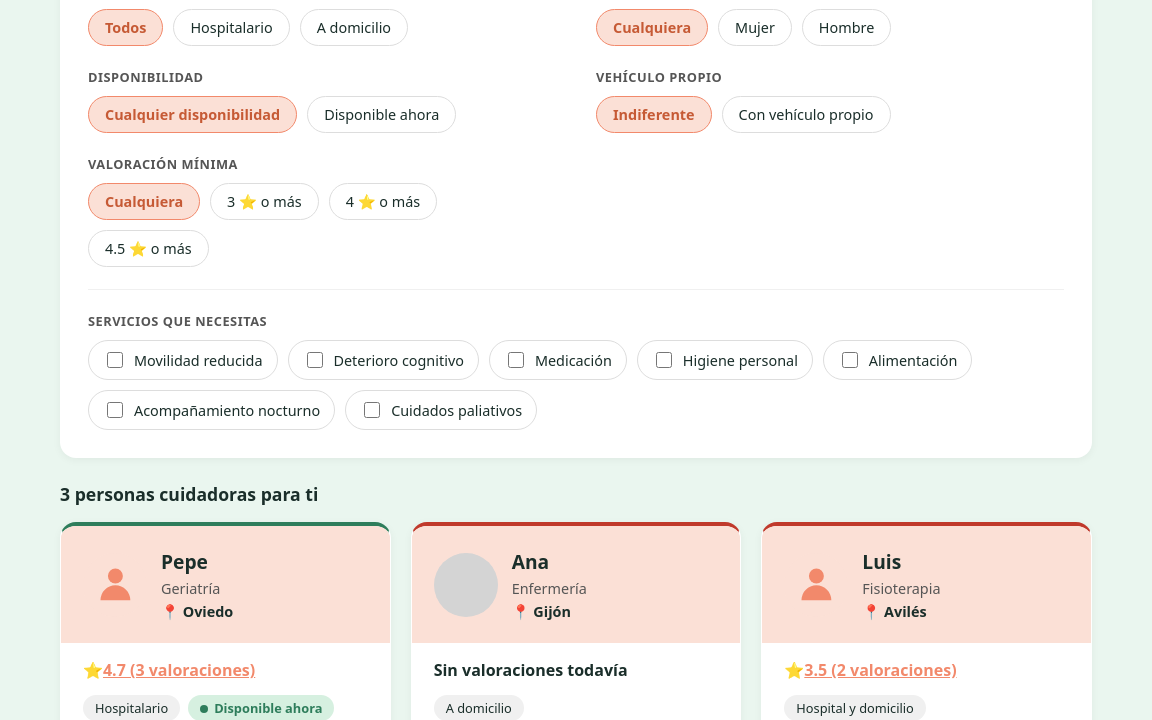
Scenario: BuscarView › el filtro de un servicio solo deja a los que lo ofrecen
(page scrolled)
Click the checkbox with id "filtro-servicio-medicacion" at (516, 360), box [508,352,524,368]
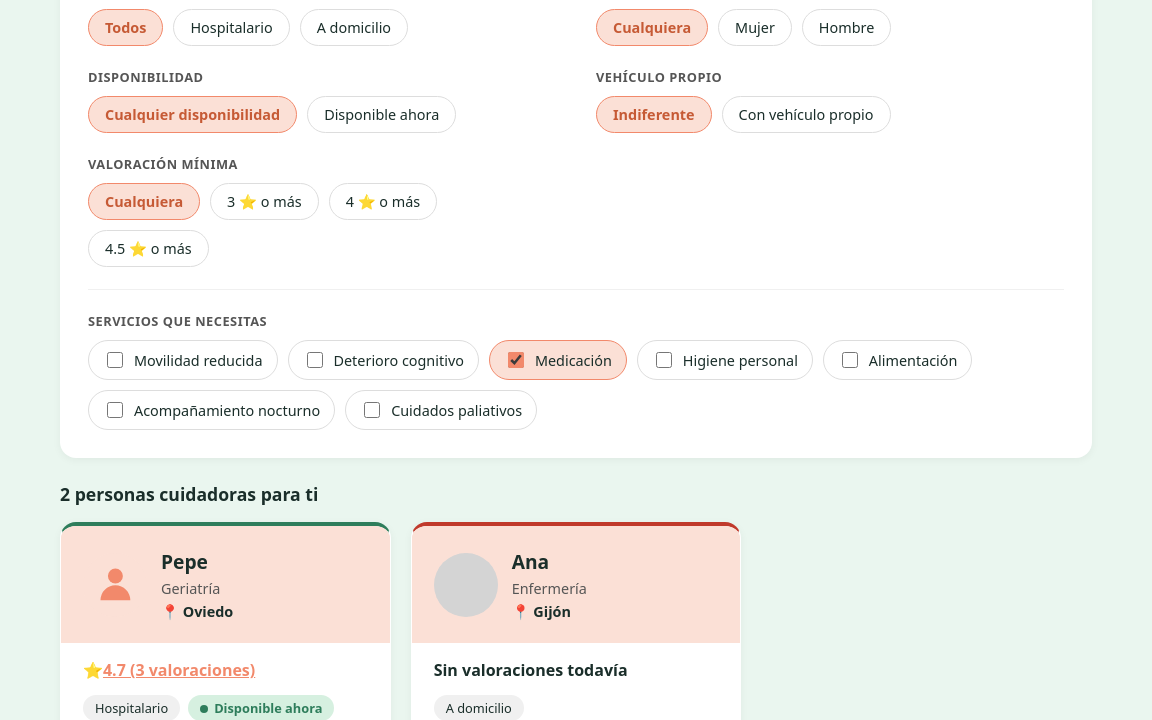
Expected: the text "Pepe" is shown, [161,548,208,575]
Now the text "Luis" is gone
